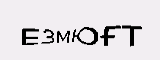Е: (18, 26, 39, 46)
З: (41, 27, 55, 44)
М: (54, 28, 72, 46)
Т: (120, 22, 145, 48)
Ю: (70, 25, 99, 50)
Ғ: (100, 23, 120, 46)
